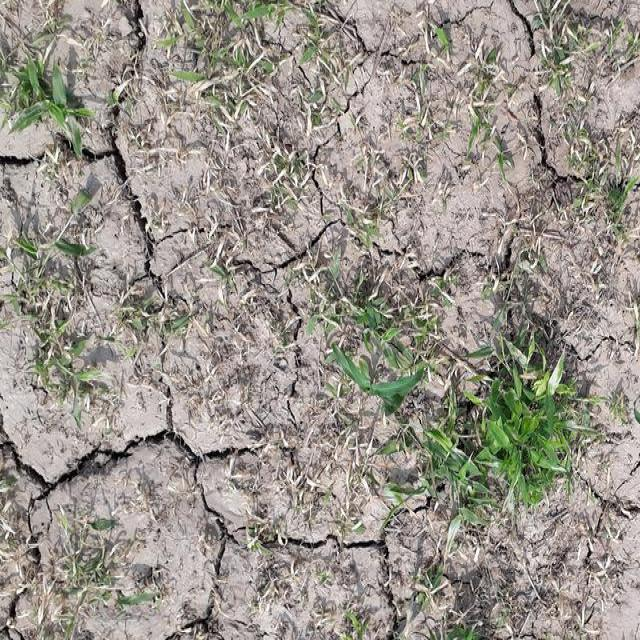weed: (434, 336, 590, 528), (0, 37, 94, 151)
